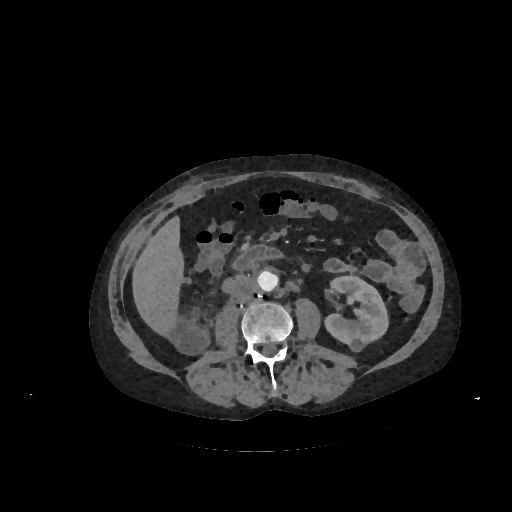Lesion: (347, 337, 367, 356)
